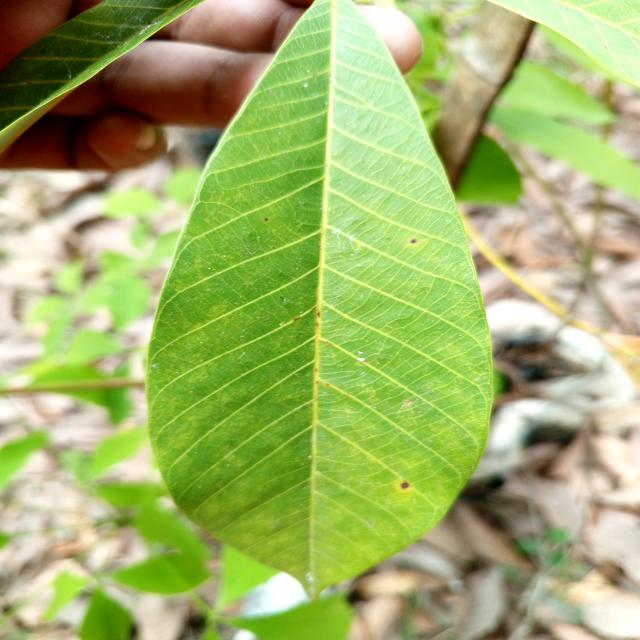Colletotrichum: (402, 482, 409, 488)
